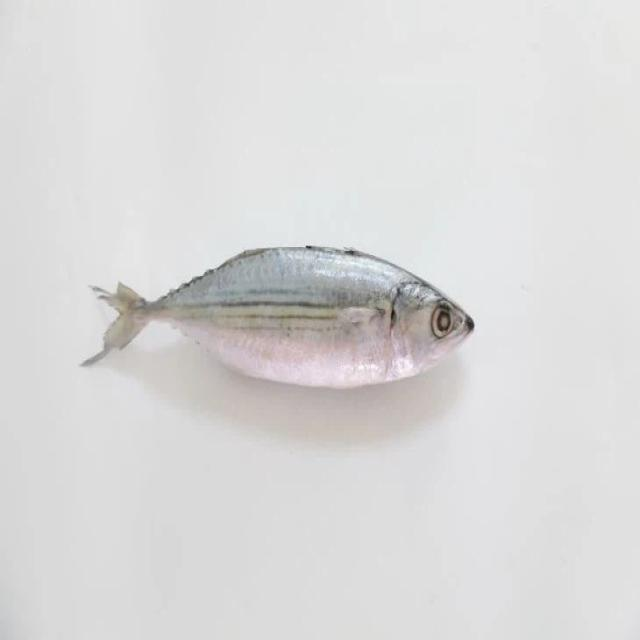Mackerel: (98, 246, 482, 387)
